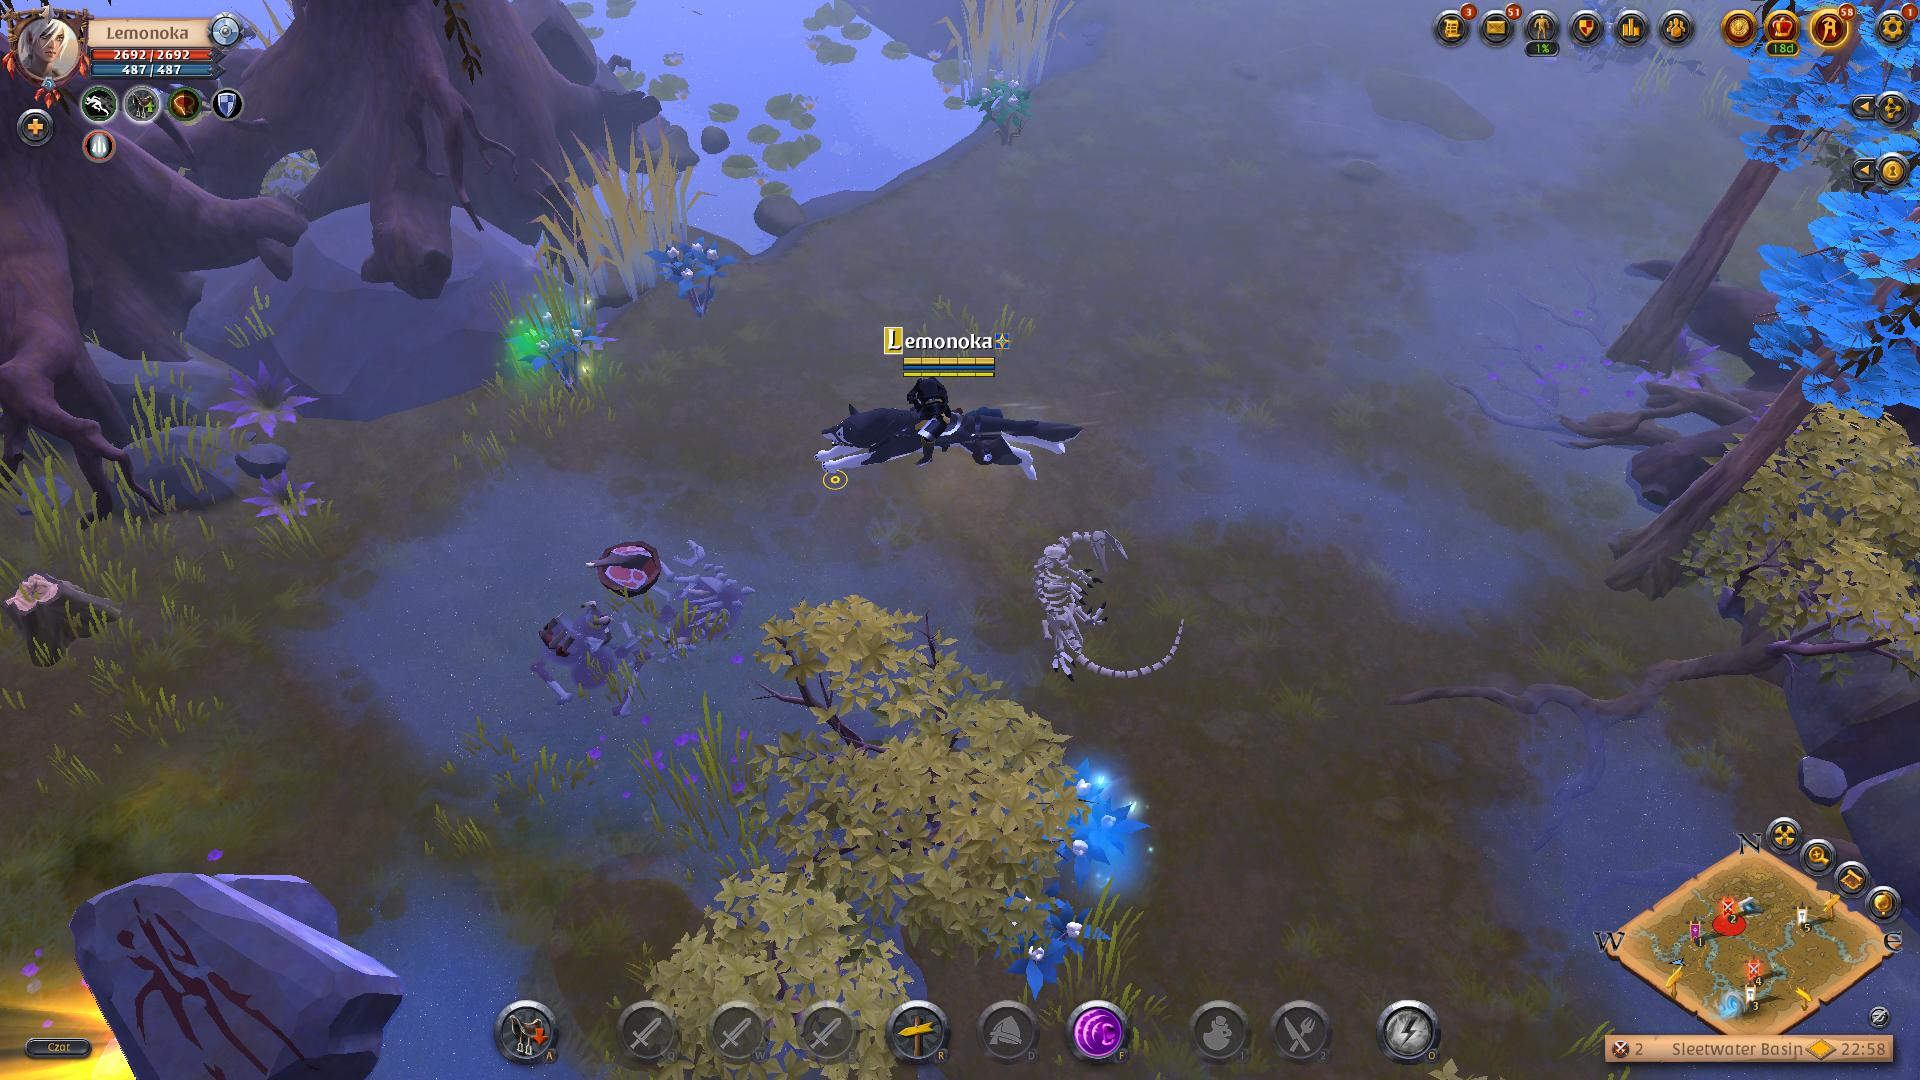fiber tier 3: (964, 75, 1036, 152)
fiber tier 4: (518, 299, 612, 390), (646, 229, 737, 315)
